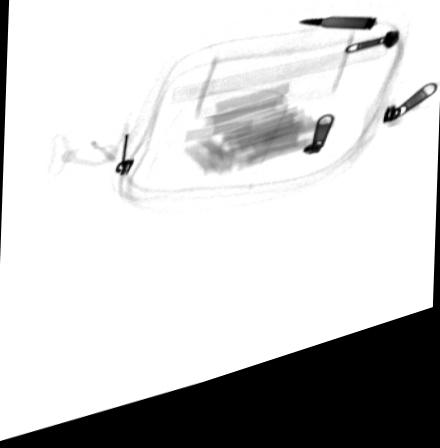Bullet: (293, 35, 378, 54)
